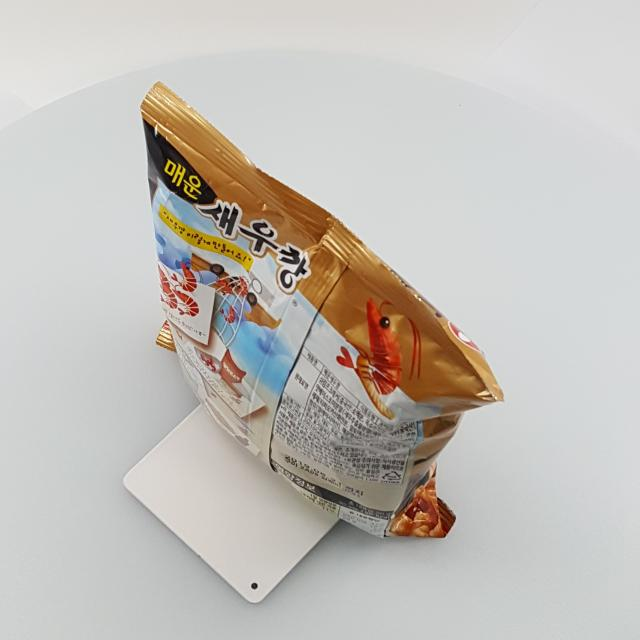-90G: (140, 82, 506, 540)
